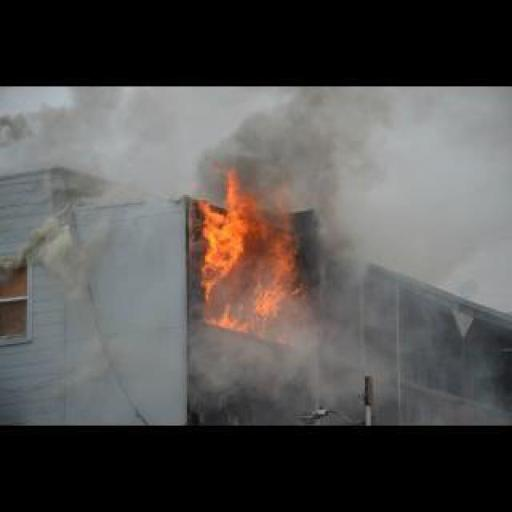smoke: (164, 304, 394, 411), (186, 162, 306, 346), (190, 90, 381, 194)
